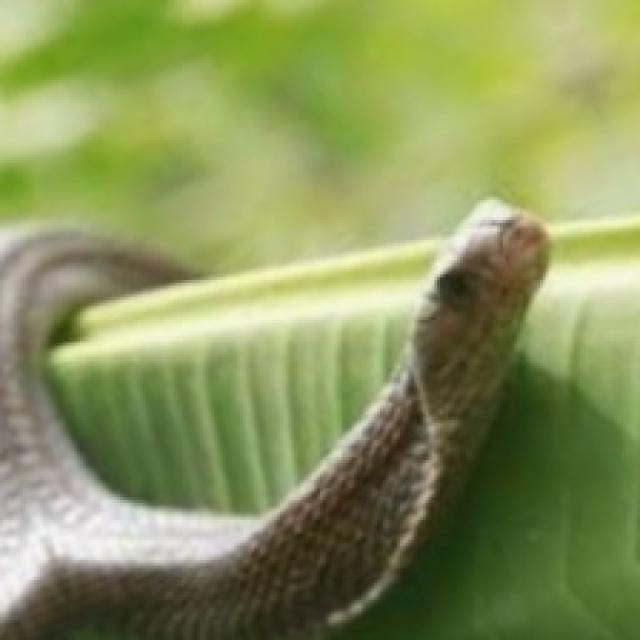philippine cobra: (0, 202, 548, 639), (0, 200, 546, 637)
